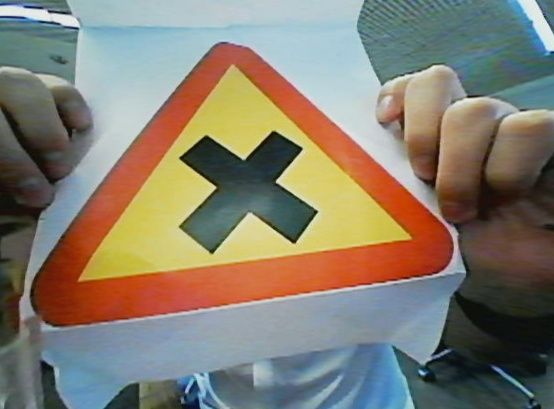junction: (19, 40, 460, 325)
